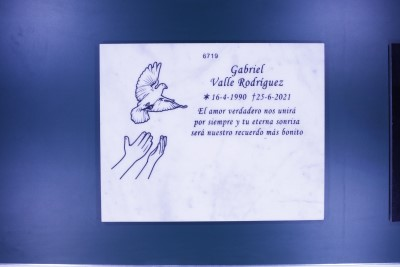lapidas: (99, 43, 324, 222)
